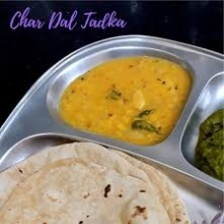dal: (54, 53, 190, 145)
